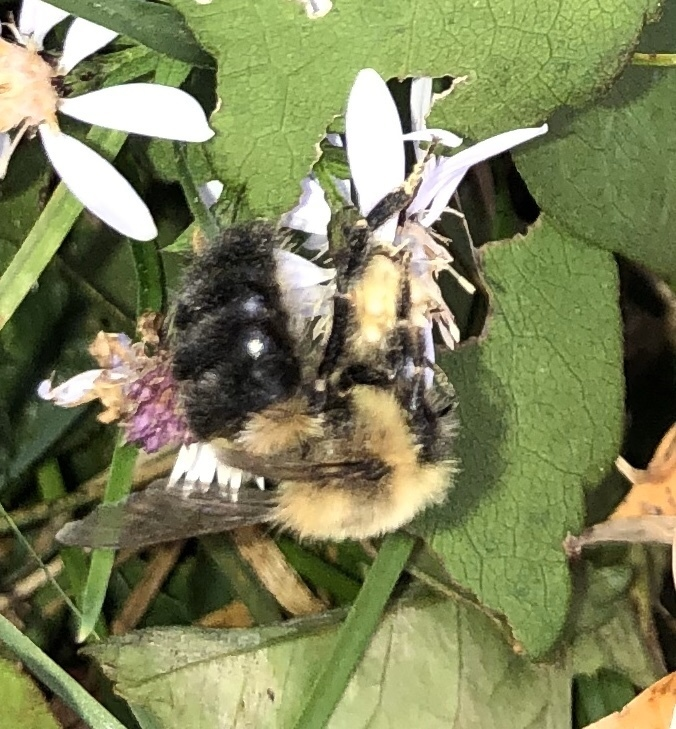bumblebee: (52, 134, 463, 552)
